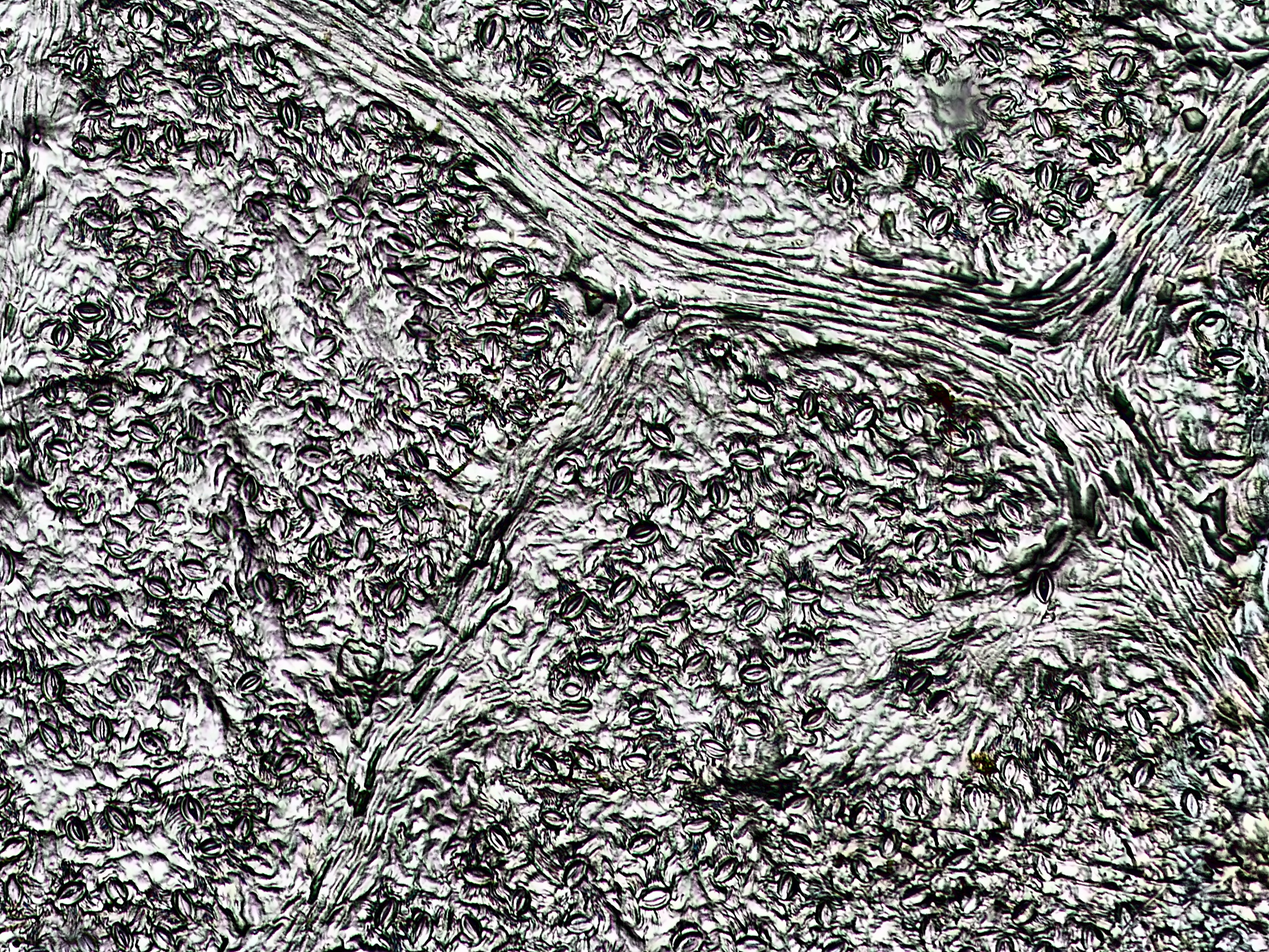stomata: (971, 236, 1009, 287), (327, 195, 368, 227), (823, 166, 858, 202), (936, 414, 971, 449), (956, 131, 992, 164), (882, 452, 920, 482), (1083, 730, 1116, 764), (806, 68, 846, 96), (1037, 197, 1070, 230), (1038, 738, 1068, 774), (917, 145, 945, 183), (449, 164, 485, 193), (630, 640, 662, 672), (603, 466, 635, 498), (115, 67, 146, 100), (710, 58, 743, 89), (402, 317, 441, 343), (521, 54, 558, 81), (482, 824, 514, 855), (1206, 760, 1239, 790), (703, 125, 729, 163), (1193, 307, 1228, 335), (886, 7, 923, 33), (924, 206, 955, 237), (997, 495, 1029, 525), (943, 470, 983, 494), (400, 443, 430, 475), (526, 750, 559, 779), (556, 591, 589, 620), (457, 282, 492, 309), (441, 192, 476, 219), (973, 39, 1008, 66), (478, 13, 505, 48), (872, 493, 904, 522), (274, 97, 303, 129), (788, 144, 820, 173), (559, 23, 591, 52), (598, 98, 627, 130), (642, 422, 675, 450), (83, 390, 116, 418), (337, 126, 370, 154), (623, 830, 657, 857), (80, 206, 115, 232), (1033, 850, 1062, 881), (241, 195, 272, 224), (664, 95, 695, 124), (698, 564, 737, 587), (488, 255, 527, 278), (796, 17, 819, 56), (737, 596, 765, 628), (295, 485, 323, 517), (747, 17, 775, 49), (1055, 683, 1082, 716), (1089, 137, 1122, 164), (634, 17, 667, 44), (898, 398, 922, 435), (480, 333, 504, 370), (132, 368, 167, 393), (1031, 27, 1066, 52), (75, 96, 113, 119), (606, 572, 636, 601), (875, 572, 905, 601), (914, 567, 945, 595), (583, 0, 614, 28), (847, 802, 874, 834), (999, 788, 1026, 820), (295, 443, 331, 467), (397, 373, 424, 405), (210, 383, 237, 415), (865, 106, 906, 127), (54, 880, 87, 906), (1044, 790, 1069, 824), (956, 884, 985, 913), (371, 898, 399, 928), (566, 740, 594, 770), (379, 266, 414, 290), (193, 139, 221, 169), (811, 897, 838, 928), (103, 804, 130, 835), (651, 132, 682, 159), (983, 202, 1021, 224), (1124, 702, 1150, 734), (912, 528, 938, 560), (460, 864, 496, 887), (1041, 71, 1077, 94), (663, 761, 696, 786), (864, 138, 889, 171), (970, 527, 1004, 551), (950, 548, 978, 577), (131, 777, 160, 805), (536, 367, 565, 395), (1146, 819, 1176, 846), (835, 537, 865, 564), (201, 601, 231, 628), (726, 448, 761, 471), (1209, 347, 1244, 370), (163, 117, 186, 152), (457, 910, 482, 942), (423, 240, 461, 261), (636, 884, 669, 908), (626, 520, 659, 544), (150, 631, 183, 655), (303, 396, 331, 424), (731, 530, 760, 557), (1066, 176, 1093, 205), (126, 420, 160, 443), (272, 444, 298, 474), (388, 153, 425, 174), (192, 76, 229, 97), (383, 581, 408, 612), (118, 126, 143, 157), (252, 42, 277, 73), (899, 785, 921, 820), (1190, 728, 1222, 752), (38, 720, 62, 752), (163, 22, 195, 46), (69, 47, 93, 79), (984, 93, 1016, 117), (858, 47, 882, 79), (999, 754, 1022, 787), (1010, 897, 1037, 925), (410, 912, 431, 948), (552, 457, 580, 484), (149, 924, 177, 951), (1030, 108, 1058, 135), (904, 670, 933, 696), (705, 479, 731, 508), (64, 816, 90, 845), (279, 713, 305, 742), (550, 89, 579, 115), (577, 121, 606, 147), (138, 729, 168, 754), (69, 135, 99, 160), (1109, 52, 1134, 82), (554, 678, 588, 700), (70, 300, 104, 322), (1035, 158, 1057, 192), (796, 388, 820, 419), (57, 490, 88, 514), (196, 0, 220, 31), (171, 888, 194, 920), (267, 509, 290, 541), (188, 248, 209, 283), (522, 284, 549, 311), (157, 696, 185, 722), (366, 101, 394, 127), (1102, 100, 1128, 128), (671, 930, 704, 952), (560, 858, 585, 887), (945, 848, 975, 872), (783, 451, 819, 471), (179, 794, 203, 824), (42, 374, 66, 404), (144, 297, 180, 317), (513, 1, 553, 19), (84, 338, 115, 361), (3, 874, 25, 906), (414, 554, 436, 586), (394, 192, 426, 214), (741, 112, 763, 144), (852, 403, 878, 430), (130, 207, 157, 233), (234, 670, 262, 695), (43, 437, 71, 462), (315, 269, 343, 294), (127, 3, 152, 31), (178, 558, 207, 582), (899, 885, 929, 908), (663, 479, 686, 509), (228, 255, 258, 278), (288, 179, 311, 209), (101, 539, 132, 561), (444, 387, 475, 409), (636, 91, 658, 122), (926, 690, 952, 716), (748, 378, 774, 404), (691, 7, 718, 32), (800, 706, 828, 730), (1114, 901, 1138, 929), (283, 582, 307, 610), (678, 57, 702, 85), (142, 577, 171, 600), (387, 232, 416, 255), (1036, 567, 1054, 604), (1181, 787, 1203, 817), (696, 736, 726, 758), (272, 752, 302, 774), (124, 462, 157, 482), (919, 912, 940, 943), (42, 669, 63, 700), (1098, 823, 1123, 849), (1079, 923, 1104, 949), (683, 651, 709, 676), (833, 16, 858, 42), (1044, 919, 1068, 946), (110, 922, 134, 949), (353, 528, 373, 560), (781, 793, 810, 815), (398, 504, 420, 533), (111, 671, 133, 700), (659, 600, 689, 621), (779, 508, 809, 529), (537, 808, 570, 827), (229, 325, 262, 344), (124, 260, 157, 279), (849, 857, 873, 883), (774, 871, 798, 897), (254, 369, 280, 393), (253, 156, 279, 180), (782, 831, 809, 854), (50, 323, 73, 350), (209, 514, 232, 541), (574, 651, 605, 671), (518, 325, 549, 345), (923, 48, 945, 76), (105, 876, 126, 905), (252, 572, 273, 601), (963, 785, 983, 815), (712, 857, 737, 881), (446, 423, 472, 446), (779, 631, 812, 649), (508, 887, 530, 914), (89, 594, 111, 621), (816, 472, 844, 493), (309, 534, 330, 562), (91, 714, 112, 742), (132, 500, 160, 521), (239, 473, 259, 502), (878, 830, 900, 856), (1131, 760, 1153, 786), (0, 837, 26, 859), (621, 753, 651, 772), (564, 911, 591, 932), (231, 814, 252, 841), (738, 665, 771, 682), (312, 335, 337, 357), (198, 838, 224, 859), (183, 8, 204, 34), (785, 584, 817, 601), (736, 935, 767, 952), (0, 661, 17, 692), (124, 549, 150, 569), (505, 403, 531, 423), (149, 1, 175, 21), (705, 338, 732, 357), (935, 830, 959, 851), (55, 604, 75, 629), (629, 707, 658, 724), (738, 719, 765, 737), (683, 815, 710, 833), (1216, 929, 1239, 950), (826, 792, 843, 820), (851, 914, 872, 935), (719, 931, 735, 952), (213, 771, 231, 786)
